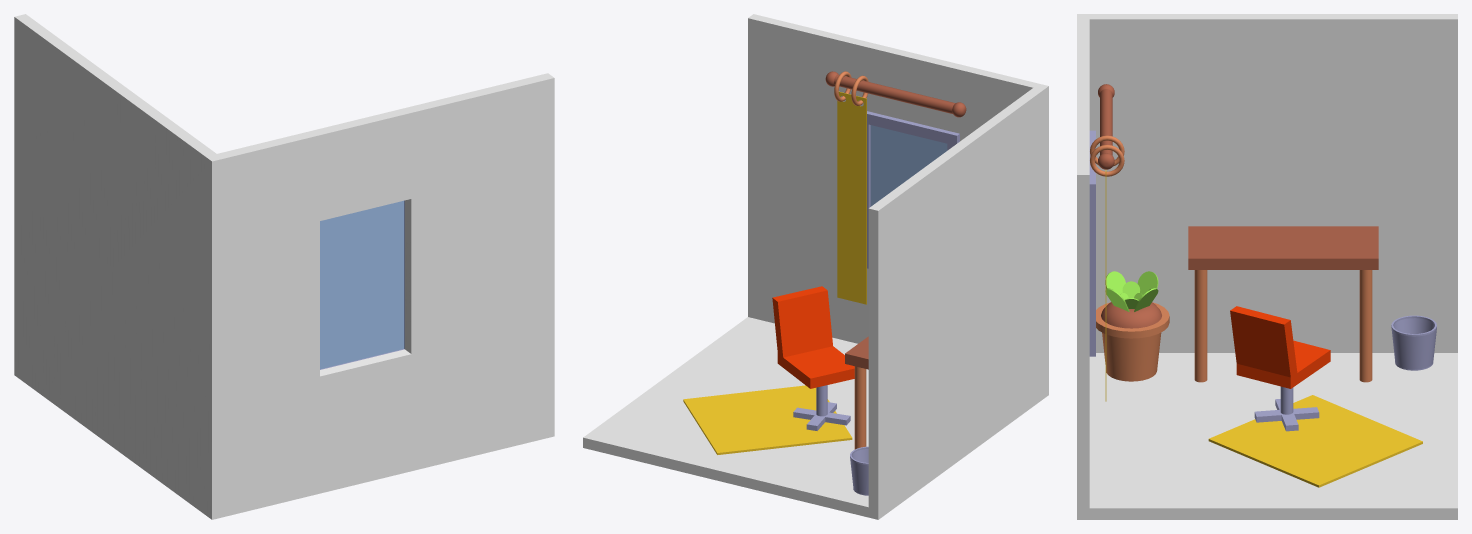
File: room2.glb
The picture shows the model from 3 angles, left to right: view 1: azimuth 30°, elevation 25°; view 2: azimuth 150°, elevation 25°; view 3: azimuth 270°, elevation 25°; orthographic projection. The views are drawn at different scales.
Visible parts, largest first — view 1: room; view 2: room; view 3: room.
Boxes of the visible parts, <box> form: room: <box>14,14,554,519</box>; room: <box>583,14,1048,519</box>; room: <box>1077,14,1457,519</box>.
Size of the model in its own units: 300 by 300 by 300.
